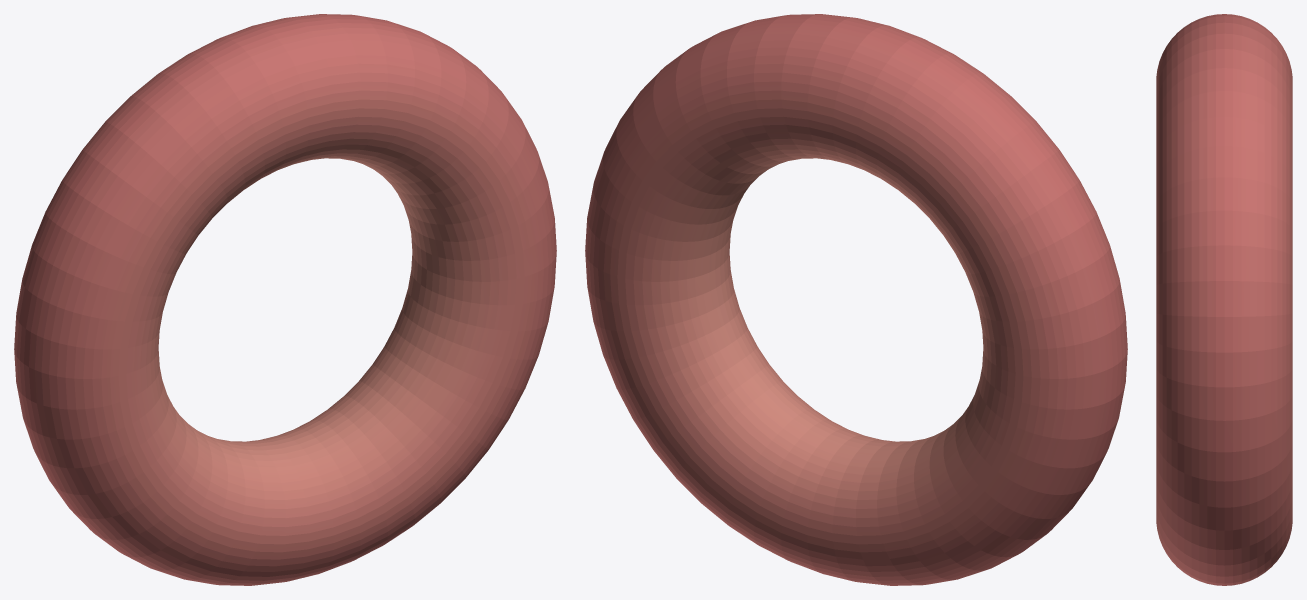
The picture shows the model from 3 angles, left to right: view 1: azimuth 30°, elevation 25°; view 2: azimuth 150°, elevation 25°; view 3: azimuth 270°, elevation 25°; orthographic projection. The views are drawn at different scales.
Visible parts, largest first — view 1: world; view 2: world; view 3: world.
Boxes of the visible parts, bbox=[...] form: world: bbox=[14, 14, 556, 585]; world: bbox=[585, 14, 1127, 585]; world: bbox=[1156, 14, 1292, 585].
Bounding box in the file's own units: 30.67 × 30.61 × 7.32.
